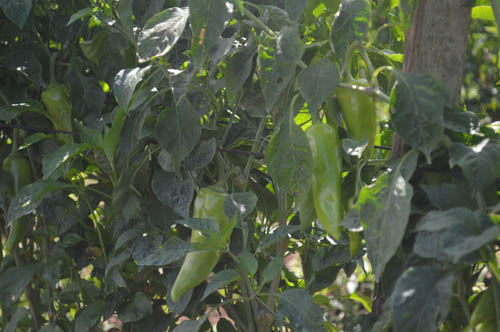ChiliPepper: (167, 191, 235, 296), (303, 126, 343, 244), (346, 80, 379, 154), (44, 88, 70, 133)
